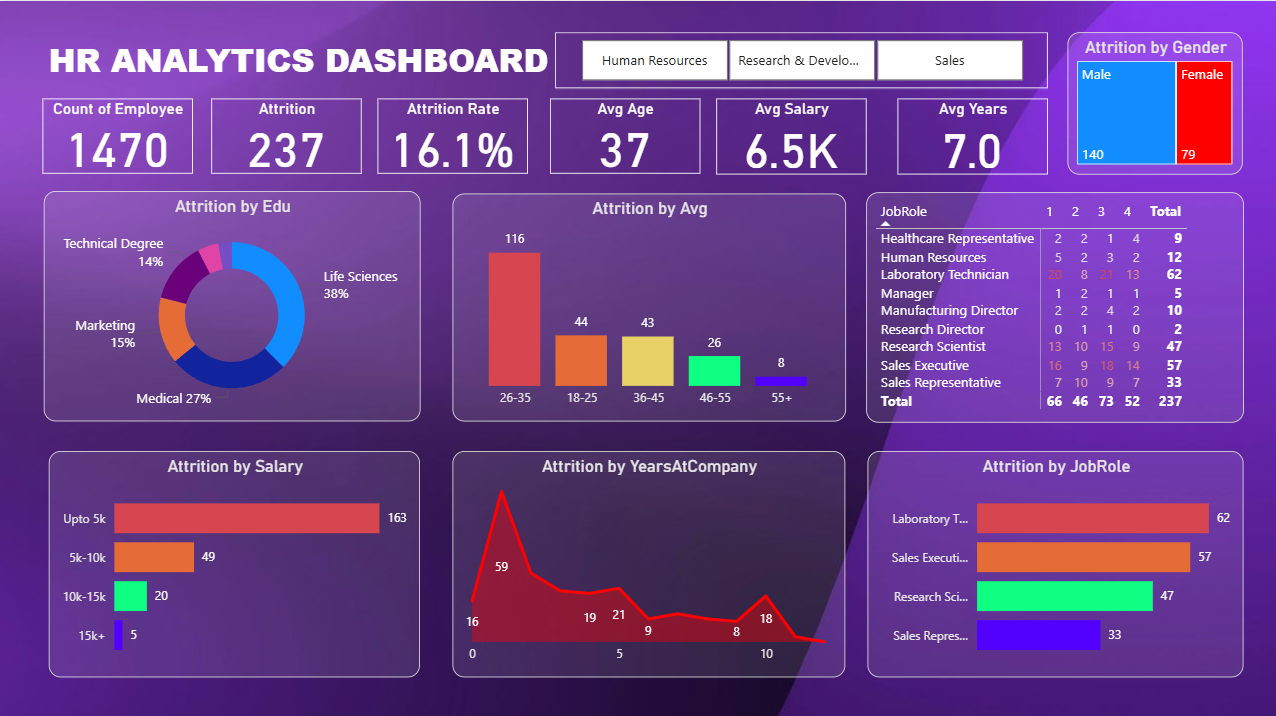

Layout of this report page (visuals, bound fields, positions):
{"tool":"powerbi","page":{"name":"Page 1","canvas":[1280,720],"ordinal":0},"visuals":[{"type":"card","title":"Count of Employee","fields":{"Values":["CountNonNull(HR_Analytics.EmpID)"]},"box":[43,97,150,75],"z":0},{"type":"card","title":"Attrition","fields":{"Values":["Sum(HR_Analytics.AttritionCount)"]},"box":[211,97,150,75],"z":1000},{"type":"card","title":"Attrition Rate","fields":{"Values":["HR_Analytics.AttritionRate"]},"box":[377.6,97,150,75.6],"z":2000},{"type":"card","title":"Avg Age","fields":{"Values":["Avg(HR_Analytics.Age)"]},"box":[549.8,97,150,75.6],"z":3000},{"type":"card","title":"Avg Salary","fields":{"Values":["Avg(HR_Analytics.MonthlyIncome)"]},"box":[716,97,150,76],"z":4000},{"type":"card","title":"Avg Years","fields":{"Values":["Avg(HR_Analytics.YearsAtCompany)"]},"box":[898,97,150,76],"z":5000},{"type":"donutChart","title":"Attrition by Edu","fields":{"Y":["Sum(HR_Analytics.AttritionCount)"],"Category":["HR_Analytics.EducationField"]},"box":[43.3,190,376.7,230],"z":6000},{"type":"columnChart","title":"Attrition by Avg","fields":{"Category":["HR_Analytics.AgeGroup"],"Y":["Sum(HR_Analytics.AttritionCount)"]},"box":[452.2,192.2,393.3,227.8],"z":7000},{"type":"pivotTable","fields":{"Rows":["HR_Analytics.JobRole"],"Columns":["HR_Analytics.JobSatisfaction"],"Values":["Sum(HR_Analytics.AttritionCount)"]},"box":[866.2,191.8,377.6,230.4],"z":8000},{"type":"barChart","title":"Attrition by Salary","fields":{"Category":["HR_Analytics.SalarySlab"],"Y":["Sum(HR_Analytics.AttritionCount)"]},"box":[43.3,440.7,372.2,226.7],"z":9000},{"type":"barChart","title":"Attrition by JobRole","fields":{"Y":["Sum(HR_Analytics.AttritionCount)"],"Category":["HR_Analytics.JobRole"]},"box":[866,450,376,226],"z":10000},{"type":"stackedAreaChart","title":"Attrition by YearsAtCompany","fields":{"Category":["HR_Analytics.YearsAtCompany"],"Y":["Sum(HR_Analytics.AttritionCount)"]},"box":[452.2,449.6,393.3,226.7],"z":11000},{"type":"treemap","title":"Attrition by Gender","fields":{"Values":["Sum(HR_Analytics.AttritionCount)"],"Group":["HR_Analytics.Gender"]},"box":[1067.9,21.3,174.4,151.8],"z":12000},{"type":"slicer","fields":{"Values":["HR_Analytics.Department"]},"box":[549.6,21.3,499.5,56.5],"z":13000},{"type":"textbox","box":[43.9,21.3,523.3,56.5],"z":14000}]}

Visuals, with their boxes in screenshot pixels (x1, y1, x2, y2), scaled from the page's 1280x720 canvas onto the 1276x716 screenshot:
"Count of Employee" card: crop(43, 96, 192, 171)
"Attrition" card: crop(210, 96, 360, 171)
"Attrition Rate" card: crop(376, 96, 526, 172)
"Avg Age" card: crop(548, 96, 698, 172)
"Avg Salary" card: crop(714, 96, 863, 172)
"Avg Years" card: crop(895, 96, 1045, 172)
"Attrition by Edu" donutChart: crop(43, 189, 419, 418)
"Attrition by Avg" columnChart: crop(451, 191, 843, 418)
pivotTable - HR_Analytics.JobRole x HR_Analytics.JobSatisfaction: crop(863, 191, 1240, 420)
"Attrition by Salary" barChart: crop(43, 438, 414, 664)
"Attrition by JobRole" barChart: crop(863, 448, 1238, 672)
"Attrition by YearsAtCompany" stackedAreaChart: crop(451, 447, 843, 673)
"Attrition by Gender" treemap: crop(1065, 21, 1238, 172)
slicer - HR_Analytics.Department: crop(548, 21, 1046, 77)
textbox: crop(44, 21, 565, 77)
